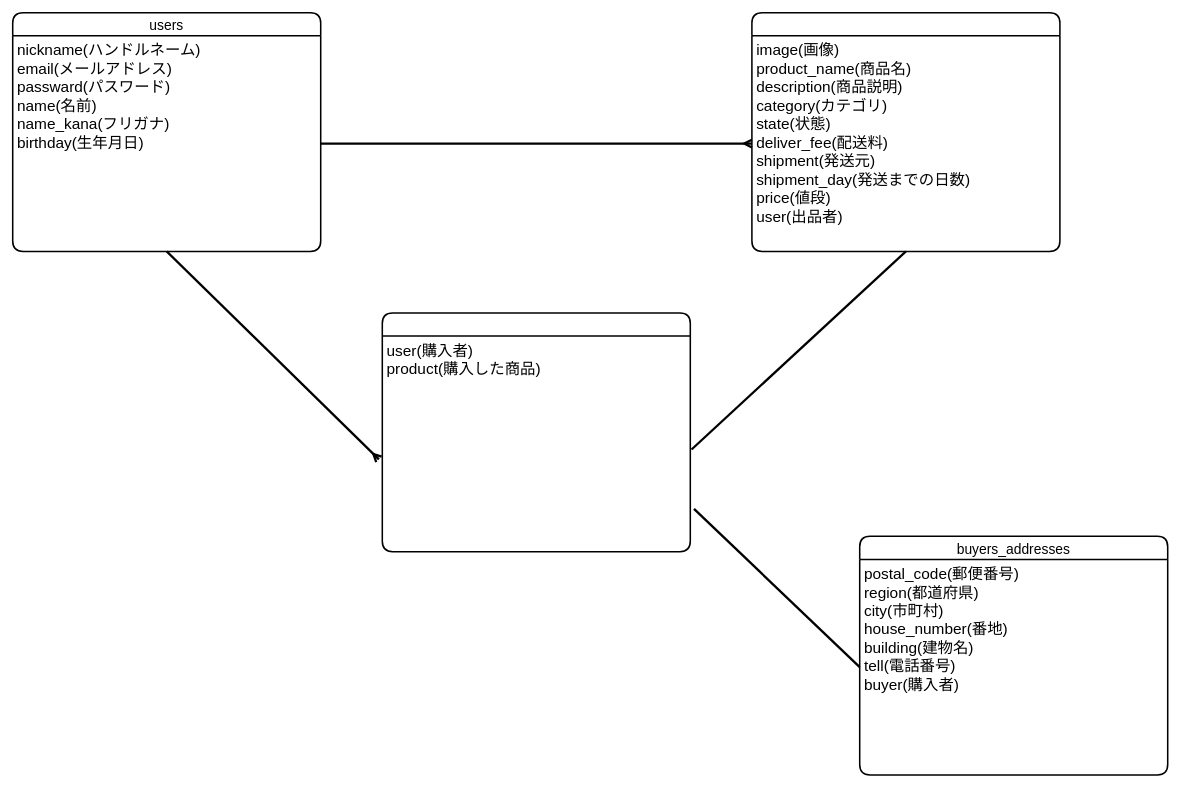
Image size: 1180x788. Some labels were removed from this diagram. The box of each missing label's shape, as (x1, y1, x2, y2) in pixels:
buyers: (381, 312, 691, 552)
products: (751, 12, 1060, 252)
